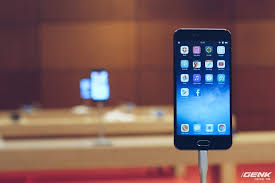bphone: (170, 26, 235, 151)
